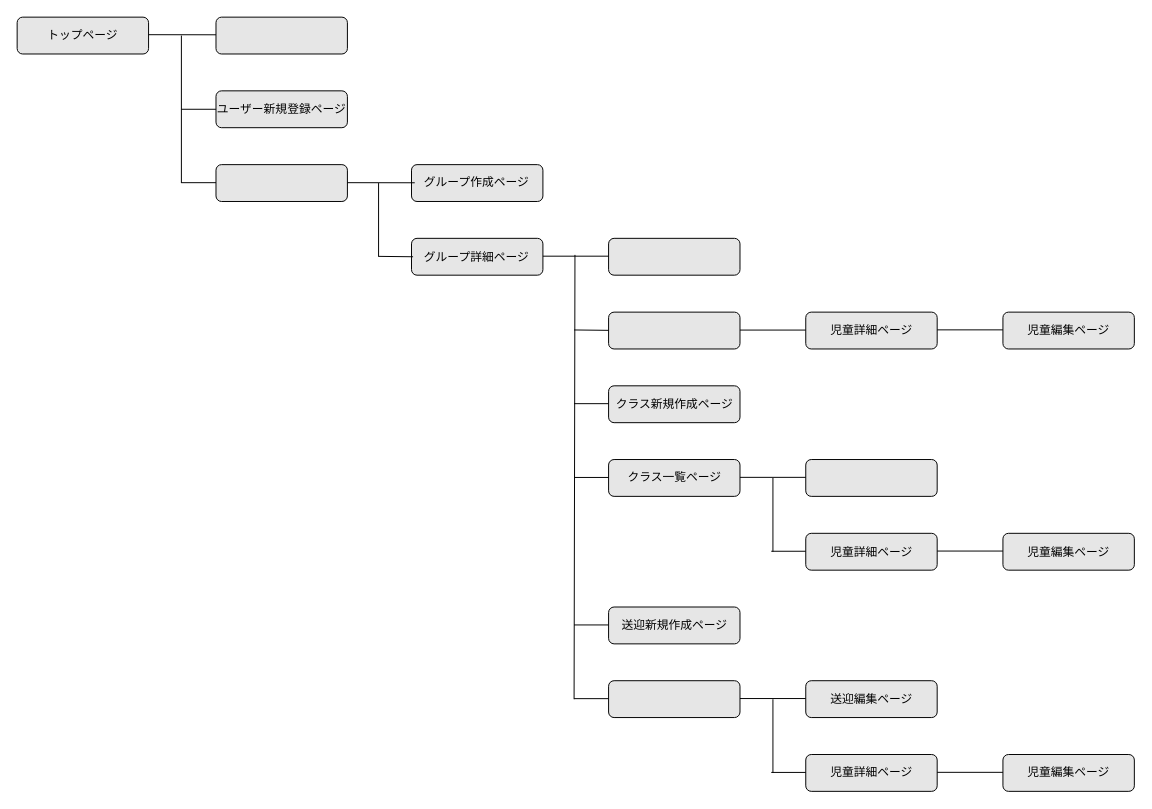
Some shapes in this 1152 by 809 pixel diagram are drawn without their labels. The centre of each missing label's shape, as x and y in pixels:
"クラス編集ページ" goes at pixel 871 477.
"グループ一覧ページ" goes at pixel 281 182.
"ユーザーログインページ" goes at pixel 281 35.
"児童一覧ページ" goes at pixel 674 330.
"児童新規登録ページ" goes at pixel 674 256.
"送迎一覧ページ" goes at pixel 674 699.
